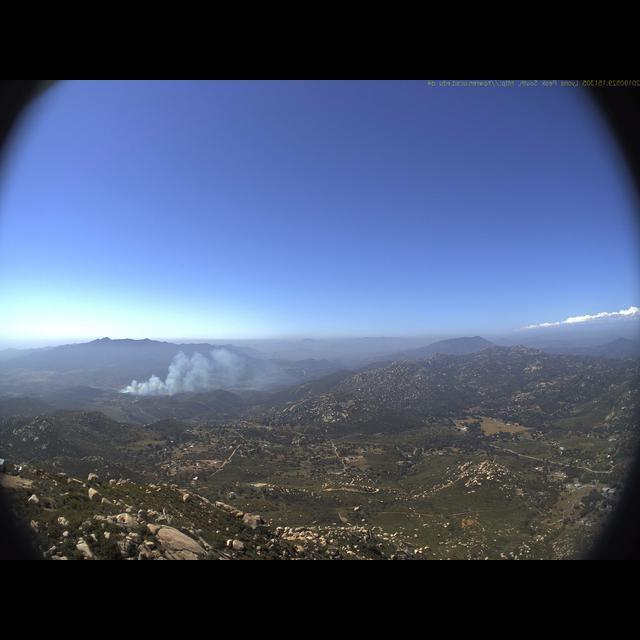Smoke: (118, 344, 298, 398)
